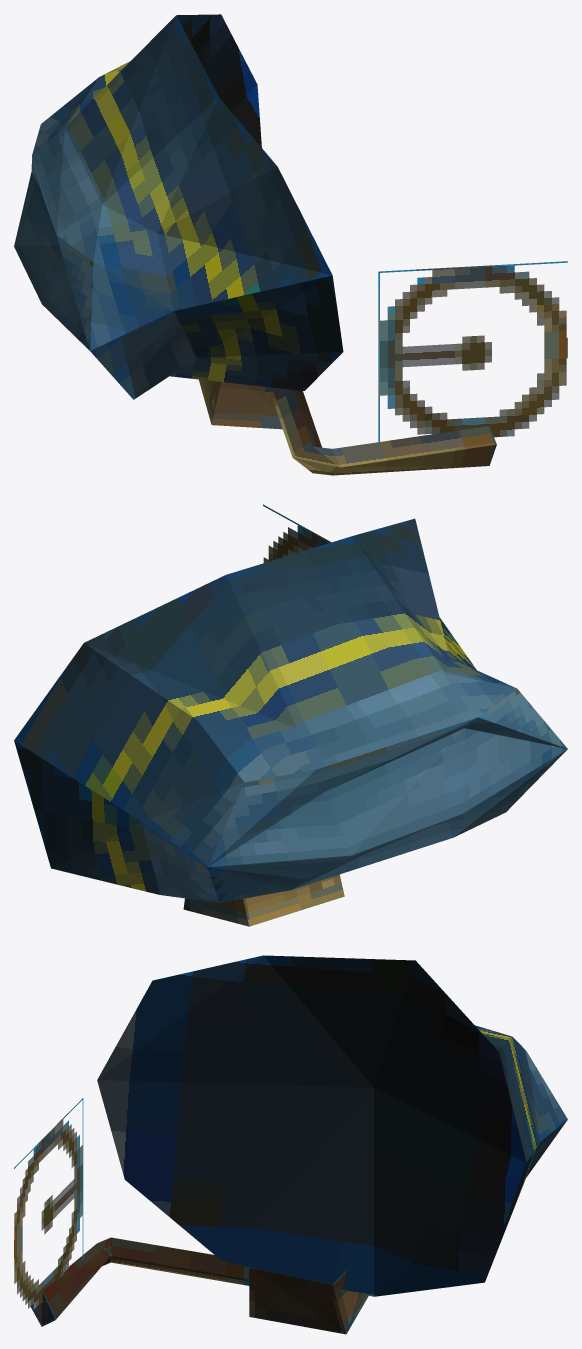
File: XAAIRHELMET.obj
The picture shows the model from 3 angles, top to bottom: view 1: azimuth 30°, elevation 25°; view 2: azimuth 150°, elevation 25°; view 3: azimuth 270°, elevation 25°; orthographic projection. The views are drawn at different scales.
Visible parts, largest first — view 1: Node 0; view 2: Node 0; view 3: Node 0.
Boxes of the visible parts, x1,y1,x2,y2 form: Node 0: [14, 14, 567, 475]; Node 0: [14, 504, 567, 926]; Node 0: [14, 955, 567, 1334].
Size of the model in its own units: 0.3 by 0.27 by 0.4.
Materials: 1 (1 with a texture image).
